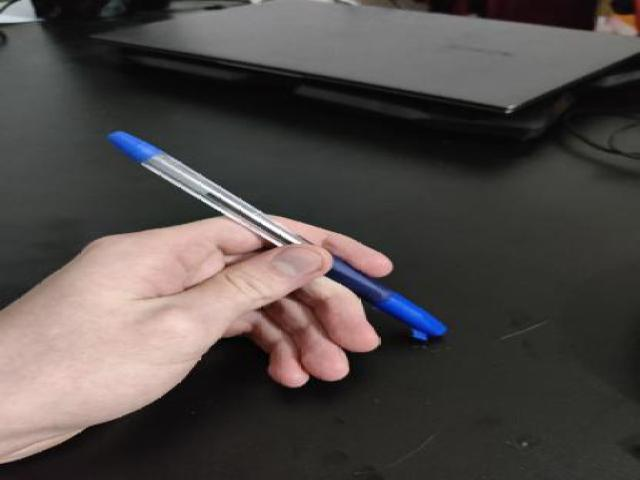PEN: (93, 110, 463, 368)
